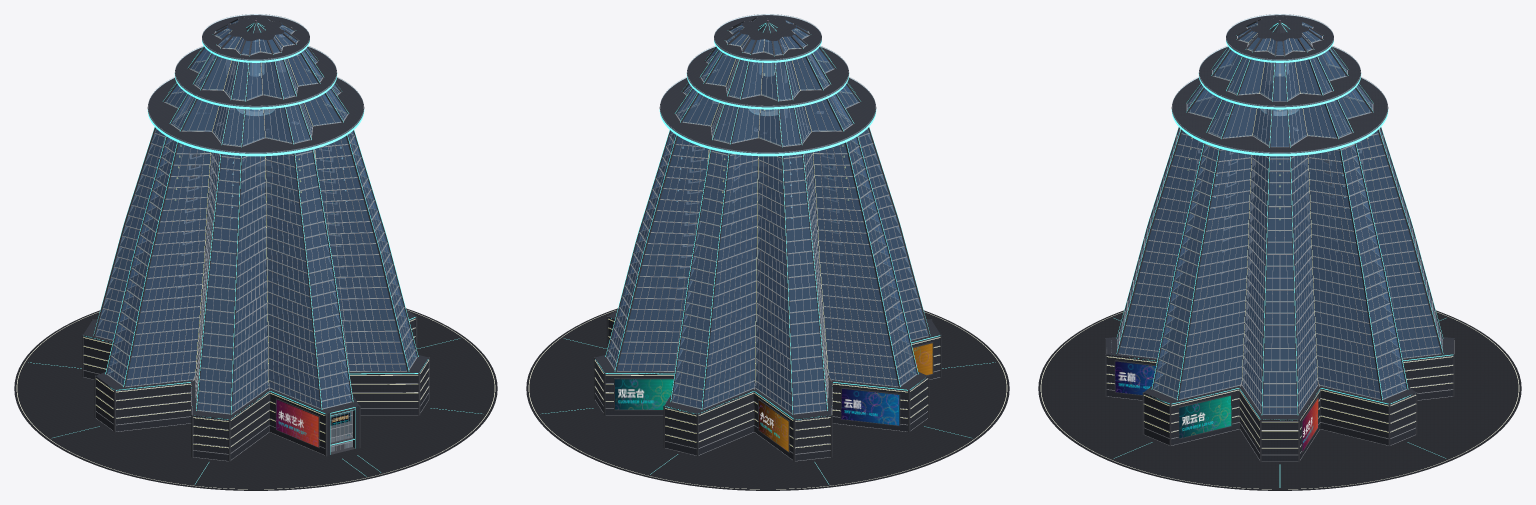
The picture shows the model from 3 angles, left to right: view 1: azimuth 30°, elevation 25°; view 2: azimuth 150°, elevation 25°; view 3: azimuth 270°, elevation 25°; orthographic projection.
Visible parts, largest first — view 1: Shell_Glass, Slabs, Shell_Frame, Ground, Podium, Obs_Decks, Lights_Cyan, Lights_Amber, Screens, Spire, Rails, Exhibits (+1 smaller); view 2: Shell_Glass, Slabs, Shell_Frame, Ground, Podium, Obs_Decks, Screens, Lights_Cyan, Lights_Amber, Spire, Rails, Exhibits (+1 smaller); view 3: Shell_Glass, Slabs, Shell_Frame, Ground, Podium, Obs_Decks, Lights_Cyan, Screens, Lights_Amber, Walls, Spire, Rails (+1 smaller).
Part boxes in pixels (left/top/right/bottom): Shell_Glass: left=95, top=19, right=416, bottom=413; Slabs: left=96, top=22, right=415, bottom=454; Shell_Frame: left=82, top=14, right=429, bottom=461; Ground: left=14, top=308, right=497, bottom=490; Podium: left=83, top=309, right=428, bottom=460; Obs_Decks: left=147, top=15, right=364, bottom=156; Lights_Cyan: left=93, top=20, right=418, bottom=454; Lights_Amber: left=83, top=27, right=428, bottom=448; Screens: left=276, top=400, right=350, bottom=447; Spire: left=227, top=17, right=284, bottom=41; Rails: left=149, top=14, right=363, bottom=153; Exhibits: left=171, top=34, right=350, bottom=436; Shell_Glass: left=607, top=19, right=928, bottom=413; Slabs: left=608, top=22, right=927, bottom=413; Shell_Frame: left=594, top=14, right=941, bottom=461; Ground: left=526, top=308, right=1009, bottom=490; Podium: left=595, top=309, right=940, bottom=460; Obs_Decks: left=659, top=15, right=876, bottom=156; Screens: left=614, top=343, right=932, bottom=451; Lights_Cyan: left=605, top=20, right=930, bottom=414; Lights_Amber: left=595, top=27, right=940, bottom=448; Spire: left=739, top=17, right=796, bottom=41; Rails: left=660, top=14, right=874, bottom=153; Exhibits: left=673, top=34, right=852, bottom=321; Shell_Glass: left=1117, top=22, right=1442, bottom=414; Slabs: left=1118, top=24, right=1441, bottom=413; Shell_Frame: left=1105, top=14, right=1454, bottom=462; Ground: left=1038, top=310, right=1521, bottom=490; Podium: left=1106, top=337, right=1453, bottom=461; Obs_Decks: left=1171, top=15, right=1388, bottom=156; Lights_Cyan: left=1116, top=20, right=1443, bottom=414; Screens: left=1115, top=361, right=1318, bottom=450; Lights_Amber: left=1106, top=24, right=1453, bottom=448; Walls: left=1240, top=47, right=1319, bottom=386; Spire: left=1251, top=17, right=1308, bottom=41; Rails: left=1173, top=14, right=1386, bottom=153.
Bounding box in the file's own units: 500 × 421 × 500.
Materials: 40 (13 with a texture image).
